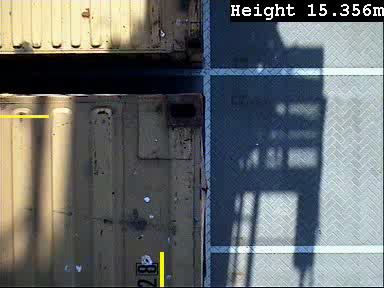groundmarker_2: (169, 150, 237, 197)
